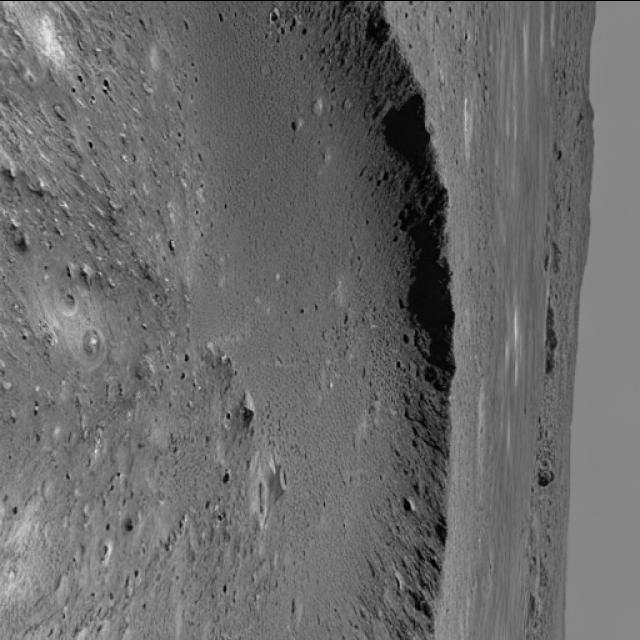crater: (1, 0, 457, 640)
